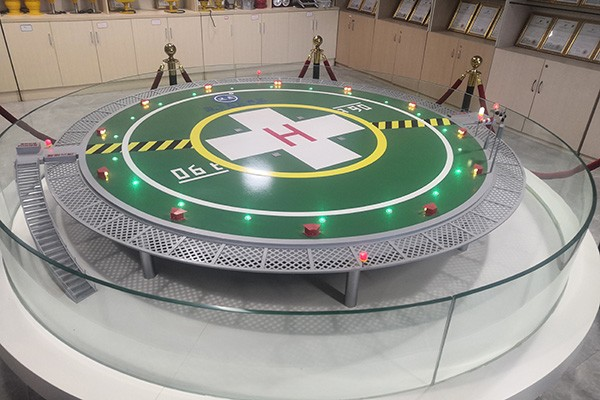H: (262, 124, 318, 148)
